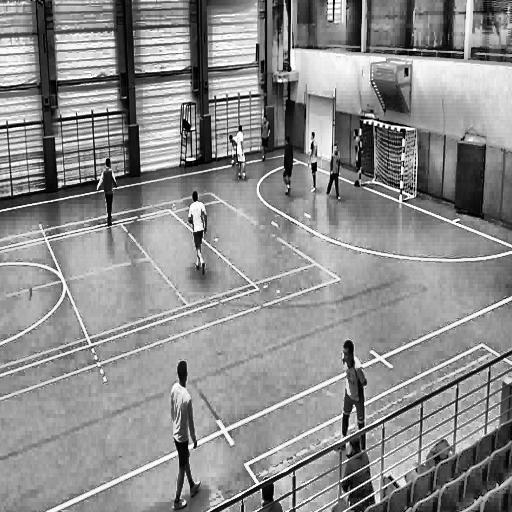ball: (230, 158, 237, 167)
player: (169, 360, 202, 512), (334, 338, 367, 456), (188, 190, 210, 280), (96, 157, 118, 229), (325, 143, 343, 202), (307, 130, 319, 195), (282, 135, 294, 199), (352, 125, 363, 193), (237, 126, 249, 182), (260, 115, 271, 165), (228, 131, 238, 165)
